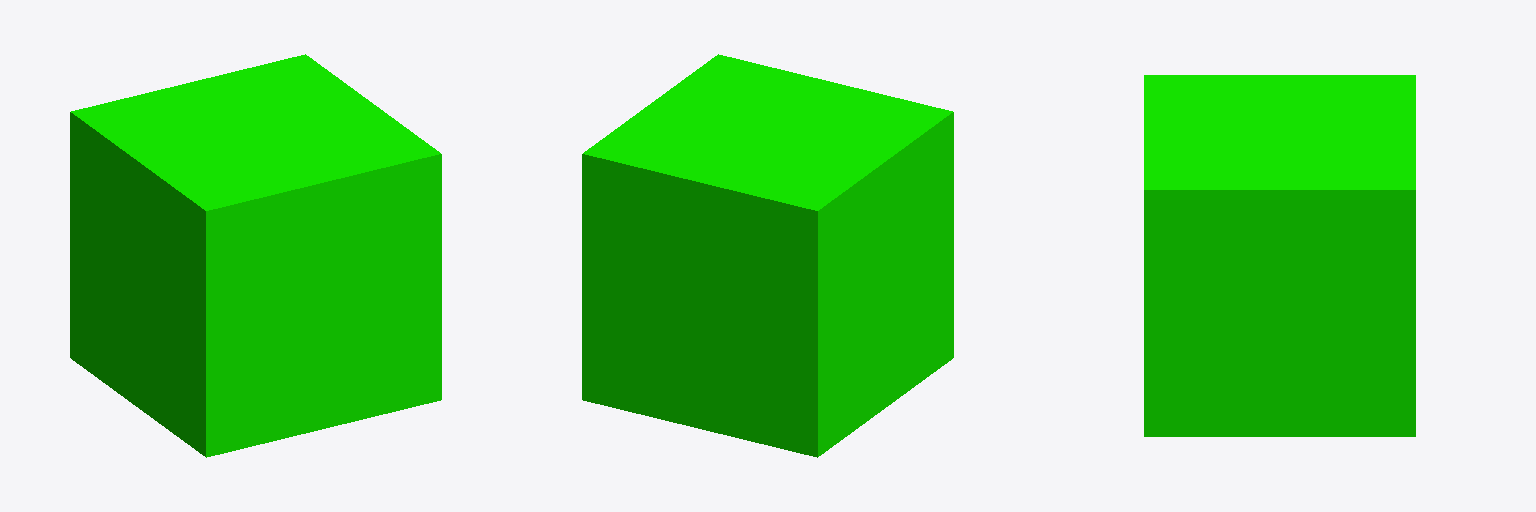
3 views of the same model, side by side, from view 1: azimuth 30°, elevation 25°; view 2: azimuth 150°, elevation 25°; view 3: azimuth 270°, elevation 25° (orthographic).
Visible parts, largest first — view 1: Cube.001; view 2: Cube.001; view 3: Cube.001.
Boxes of the visible parts, x1,y1,x2,y2 form: Cube.001: [70, 54, 441, 457]; Cube.001: [582, 54, 953, 457]; Cube.001: [1144, 75, 1415, 436].
Size of the model in its own units: 2 by 2 by 2.
Materials: 1 (1 with a texture image).